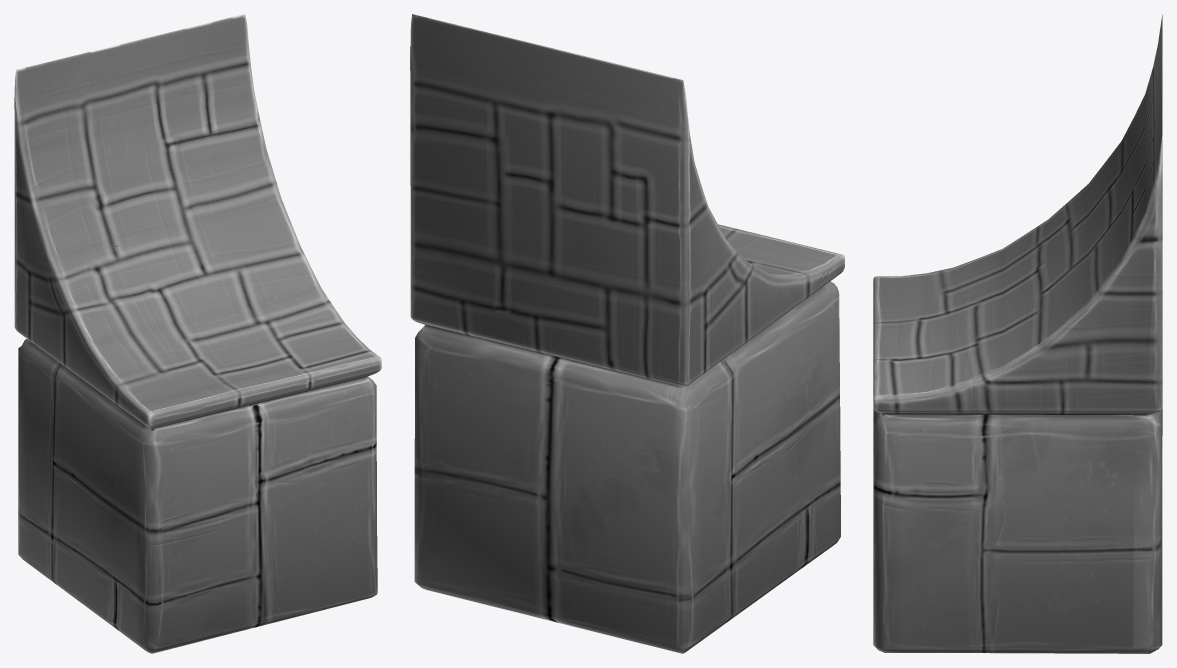
File: QuarterPipe Piece.fbx
The picture shows the model from 3 angles, left to right: view 1: azimuth 30°, elevation 25°; view 2: azimuth 150°, elevation 25°; view 3: azimuth 270°, elevation 25°; orthographic projection. The views are drawn at different scales.
Parts seen in each view (by area): view 1: HalfpipeRail-less_low; view 2: HalfpipeRail-less_low; view 3: HalfpipeRail-less_low.
Boxes of the visible parts, left/top/right/bottom form: HalfpipeRail-less_low: left=14, top=14, right=381, bottom=653; HalfpipeRail-less_low: left=410, top=14, right=844, bottom=653; HalfpipeRail-less_low: left=873, top=14, right=1162, bottom=653.
Bounding box in the file's own units: 100 × 200 × 100.
1 material, 1 textured.
